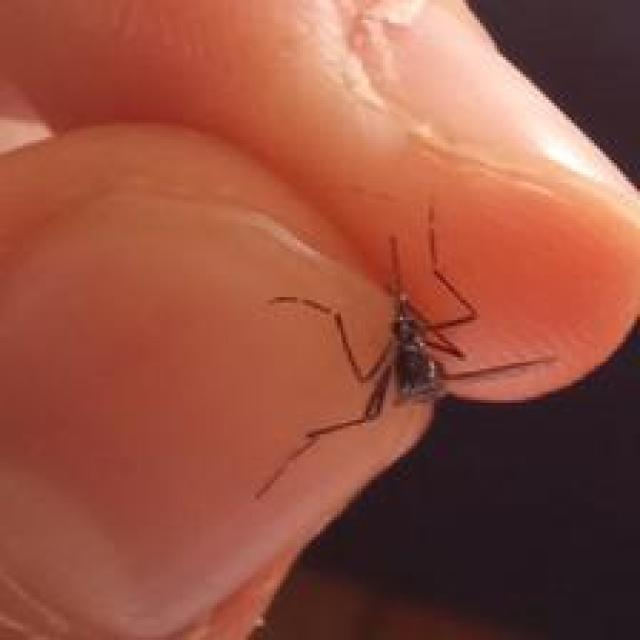Aedes albopictus: (252, 204, 554, 502)
